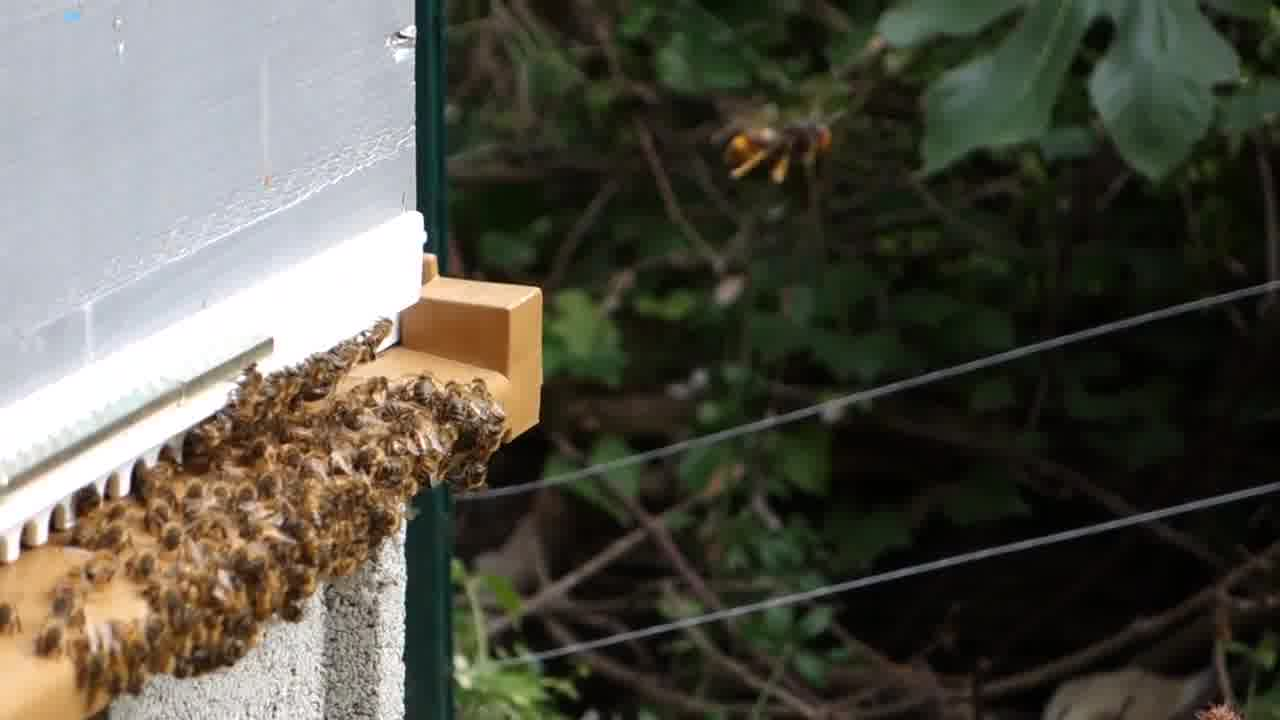bee: (441, 380, 478, 427), (84, 645, 116, 699), (274, 420, 328, 451), (287, 563, 323, 607), (36, 618, 74, 659), (361, 500, 392, 547), (366, 458, 416, 486), (101, 520, 139, 553), (354, 378, 393, 406), (158, 522, 189, 556), (461, 462, 493, 490), (369, 319, 396, 350), (235, 481, 261, 512)
hornet: (722, 107, 846, 191)
